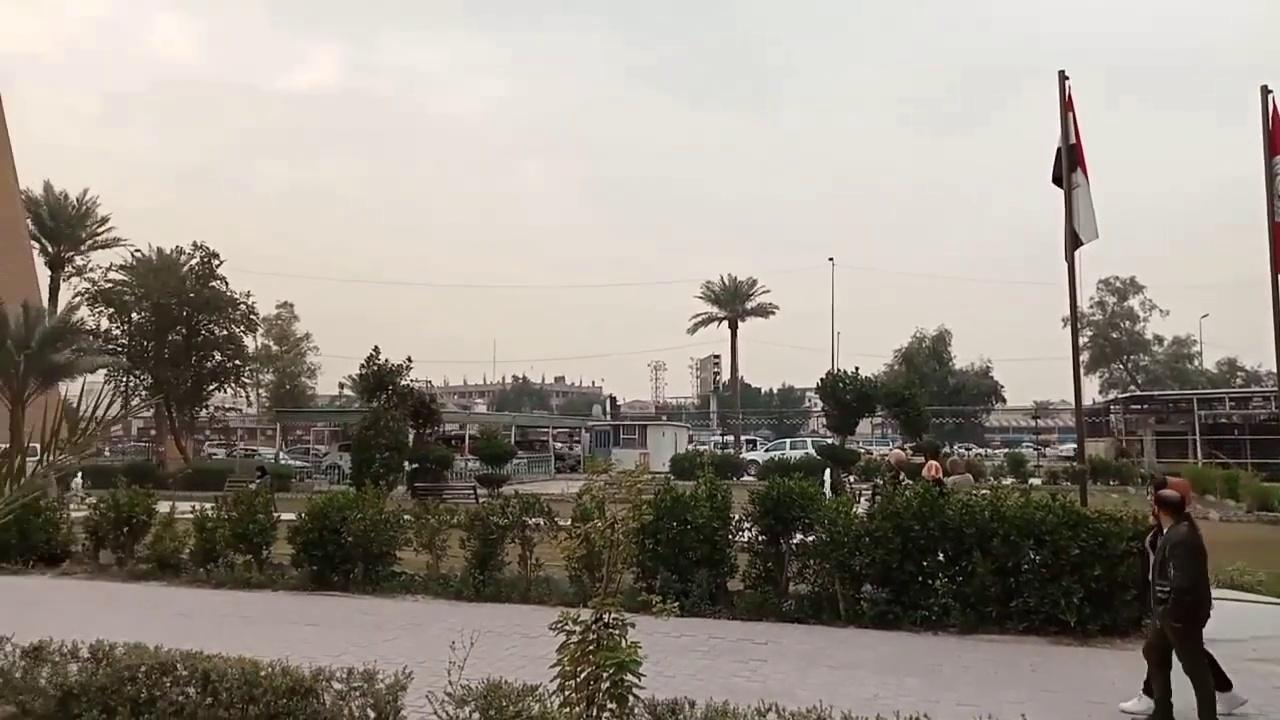car: (737, 435, 835, 479)
person: (1119, 483, 1248, 717), (943, 456, 975, 492), (920, 443, 944, 489), (886, 440, 910, 486), (252, 465, 270, 489), (69, 471, 84, 492)
tree: (83, 239, 261, 467), (16, 177, 129, 462), (544, 460, 654, 718), (0, 296, 121, 492), (338, 343, 453, 496), (1061, 273, 1195, 399), (876, 323, 1006, 447), (17, 177, 128, 322), (632, 470, 738, 611), (285, 484, 412, 592), (686, 272, 779, 413), (546, 604, 647, 718), (740, 468, 827, 597), (187, 481, 281, 582), (253, 298, 321, 411), (82, 473, 159, 569), (346, 405, 409, 496), (813, 365, 880, 446), (403, 387, 454, 484), (341, 344, 415, 409), (407, 495, 458, 580), (877, 371, 930, 444), (139, 500, 189, 577), (467, 423, 518, 493), (646, 358, 667, 405), (1002, 449, 1029, 482)
